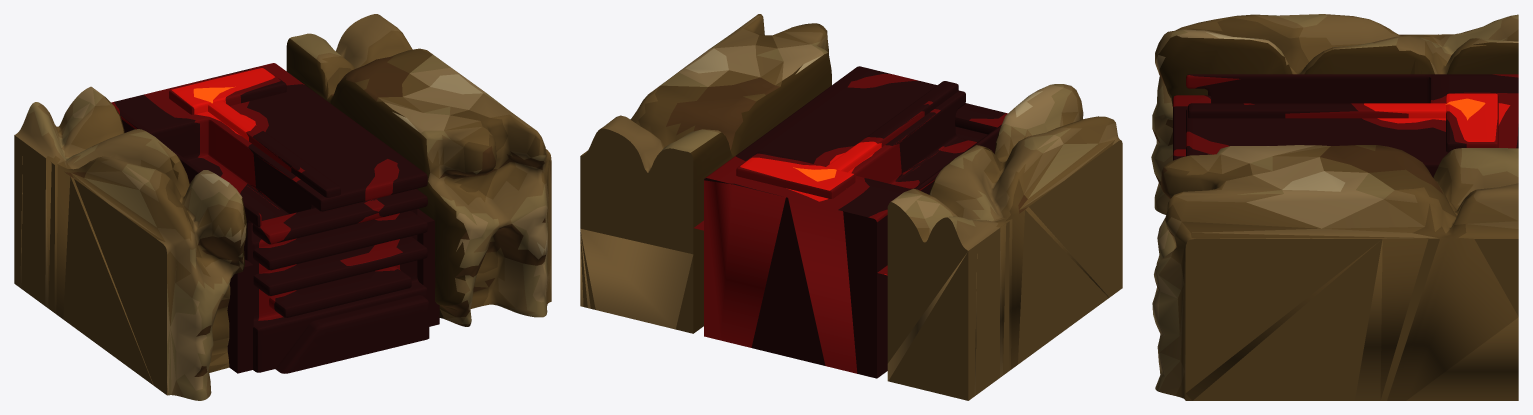
File: ixm_wall_slot_mid_damaged.glb
The picture shows the model from 3 angles, left to right: view 1: azimuth 30°, elevation 25°; view 2: azimuth 150°, elevation 25°; view 3: azimuth 270°, elevation 25°; orthographic projection. The views are drawn at different scales.
Parts seen in each view (by area): view 1: ixm_wall_slot_mid_damaged; view 2: ixm_wall_slot_mid_damaged; view 3: ixm_wall_slot_mid_damaged.
Part boxes in pixels (<box>): ixm_wall_slot_mid_damaged: <box>14,14,551,400</box>; ixm_wall_slot_mid_damaged: <box>580,14,1122,400</box>; ixm_wall_slot_mid_damaged: <box>1151,14,1518,400</box>.
Size of the model in its own units: 24 by 11.02 by 18.22.
